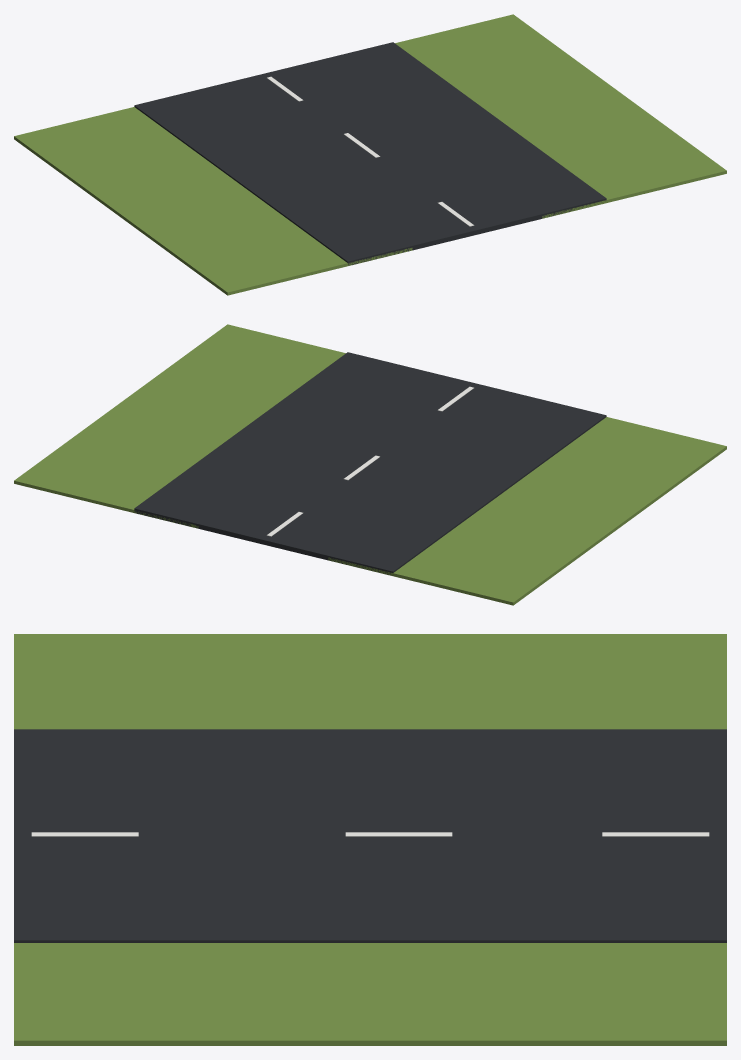
File: road.country-2.glb
The picture shows the model from 3 angles, top to bottom: view 1: azimuth 30°, elevation 25°; view 2: azimuth 150°, elevation 25°; view 3: azimuth 270°, elevation 25°; orthographic projection. The views are drawn at different scales.
Parts seen in each view (by area): view 1: road.country-2; view 2: road.country-2; view 3: road.country-2.
Boxes of the visible parts, bbox=[...] form: road.country-2: bbox=[14, 14, 726, 295]; road.country-2: bbox=[14, 324, 726, 605]; road.country-2: bbox=[14, 634, 726, 1045].
Size of the model in its own units: 13.5 by 0.132 by 10.
